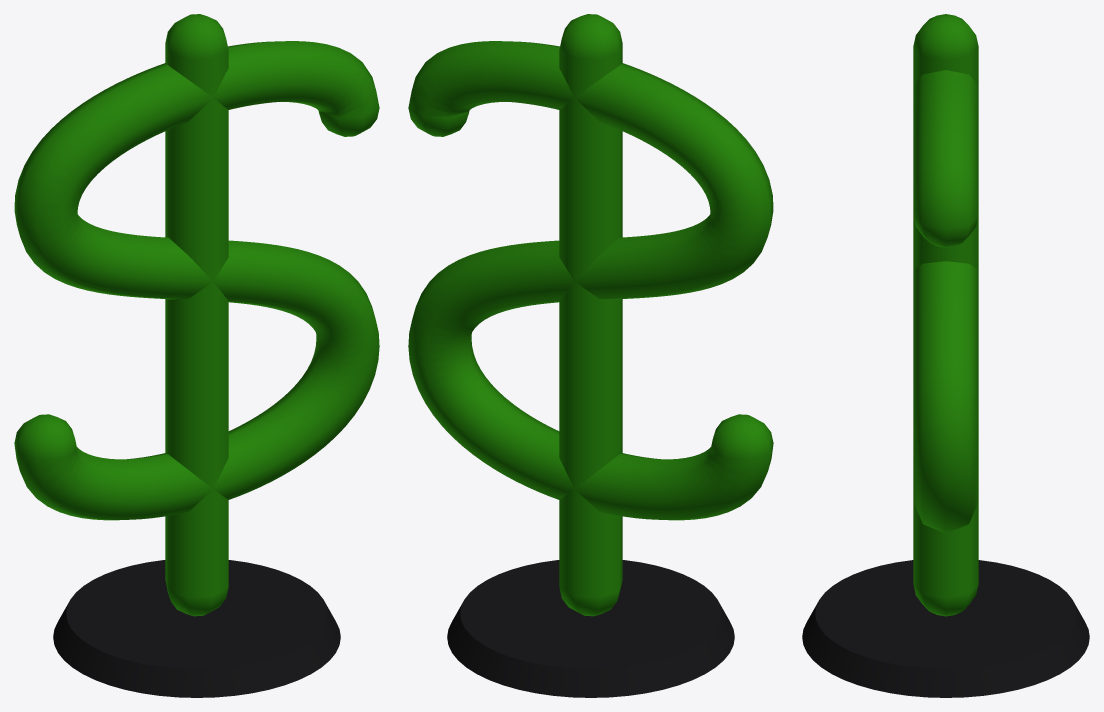
The model's file is sb-emblem-venom.glb.
The picture shows the model from 3 angles, left to right: view 1: azimuth 30°, elevation 25°; view 2: azimuth 150°, elevation 25°; view 3: azimuth 270°, elevation 25°; orthographic projection.
Parts seen in each view (by area): view 1: mark, plinth; view 2: mark, plinth; view 3: mark, plinth.
Part boxes in pixels (x1,y1,x2,y2): mark: (14,14,379,616); plinth: (53,560,340,697); mark: (408,14,773,616); plinth: (447,560,734,697); mark: (913,14,978,616); plinth: (802,560,1089,697).
Size of the model in its own units: 0.19 by 0.314 by 0.132.
